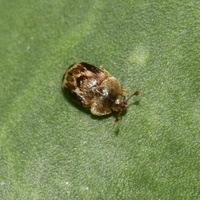insect: (62, 62, 139, 121)
